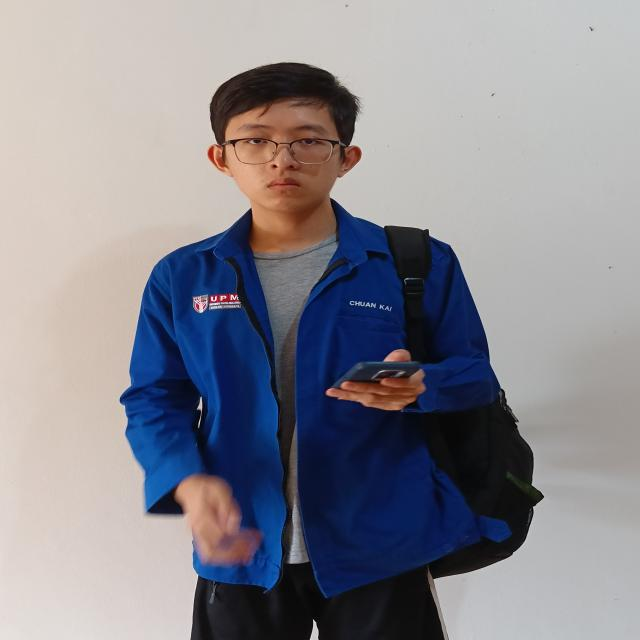person_with_labcoat: (121, 63, 543, 640)
